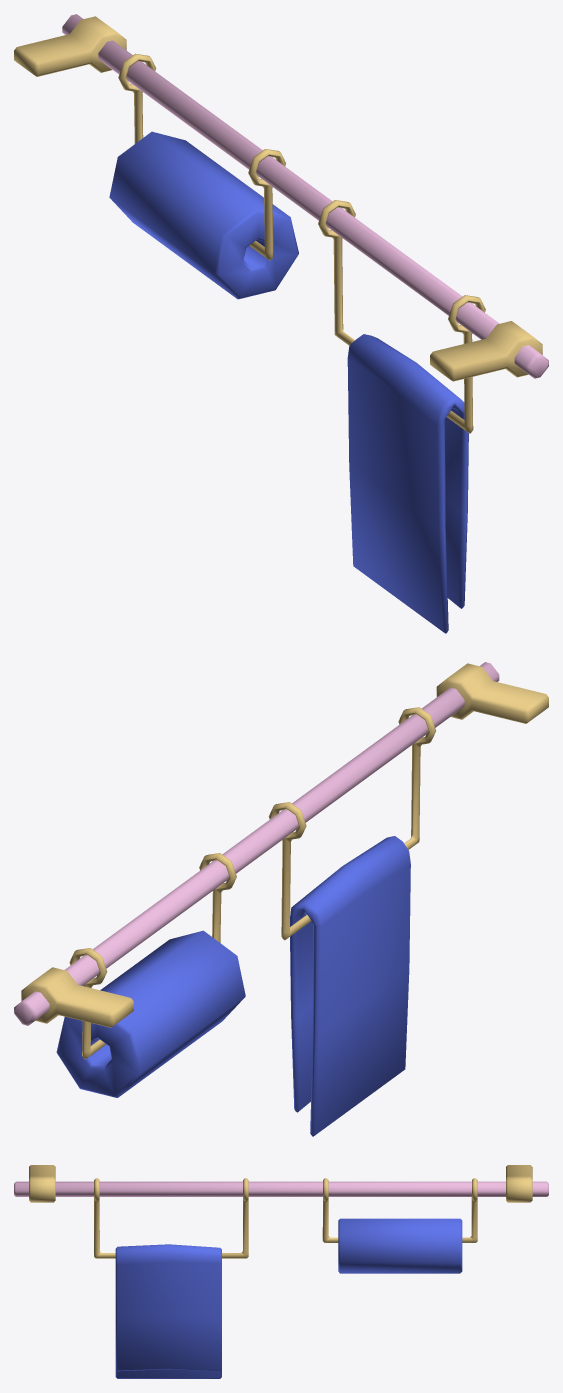
Rendered from Towel.fbx.
3 renders of one model, top to bottom at view 1: azimuth 30°, elevation 25°; view 2: azimuth 150°, elevation 25°; view 3: azimuth 270°, elevation 25°, orthographic. The views are drawn at different scales.
Parts seen in each view (by area): view 1: Cube.008; view 2: Cube.008; view 3: Cube.008.
Boxes of the visible parts, bbox=[...] form: Cube.008: bbox=[14, 14, 548, 633]; Cube.008: bbox=[14, 662, 548, 1136]; Cube.008: bbox=[14, 1165, 548, 1378].
Bounding box in the file's own units: 10.92 × 30.83 × 74.29.
